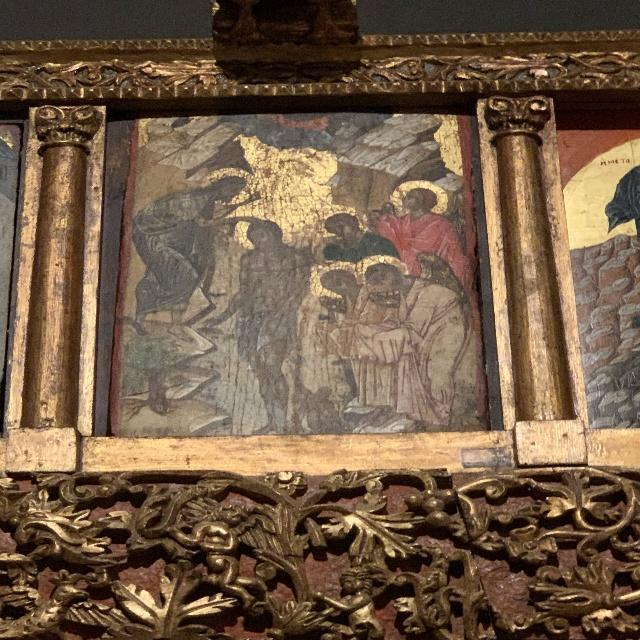angel: (372, 248, 462, 420)
aura: (231, 212, 292, 258), (309, 202, 368, 247), (392, 180, 447, 221), (311, 262, 359, 304), (362, 256, 406, 292)
christ_baptism: (225, 207, 306, 433)
wing: (415, 254, 481, 322)
